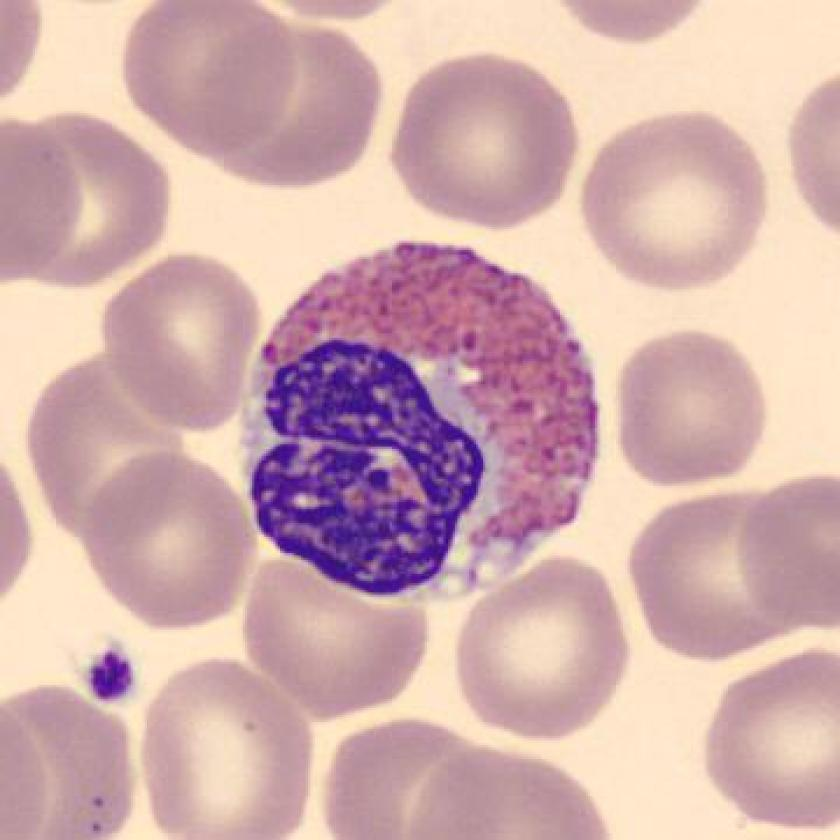eosinophil: (234, 228, 610, 617)
